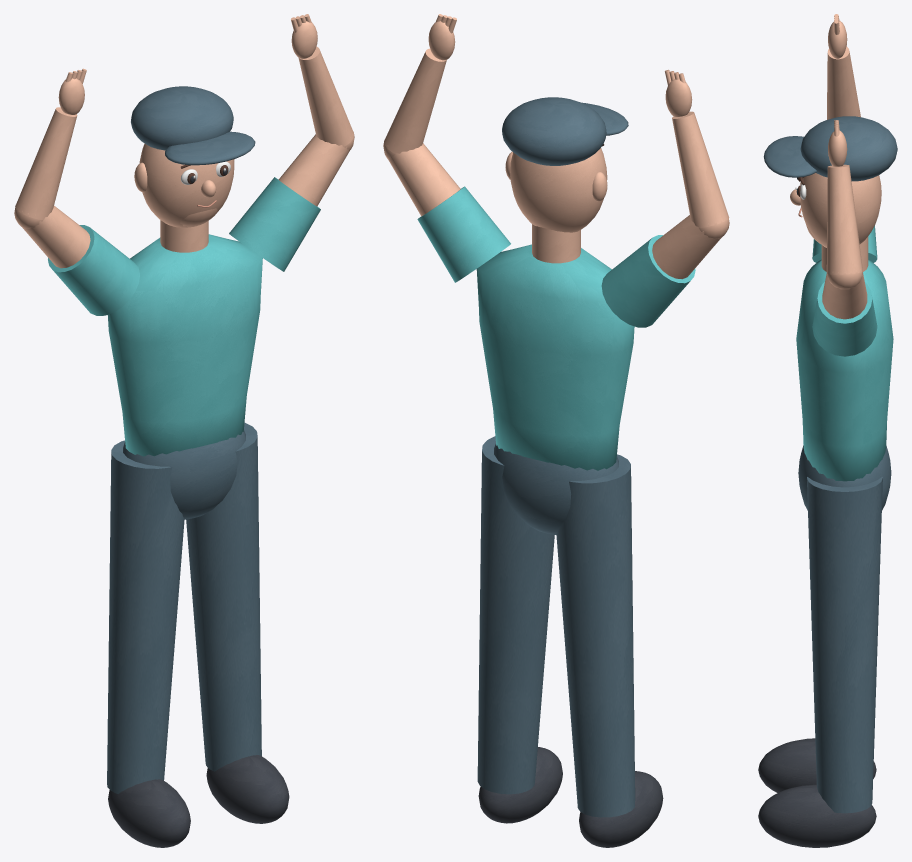
File: spectator_1.glb
3 renders of one model, left to right at view 1: azimuth 30°, elevation 25°; view 2: azimuth 150°, elevation 25°; view 3: azimuth 270°, elevation 25°, orthographic. The views are drawn at different scales.
Visible parts, largest first — view 1: spectator_1; view 2: spectator_1; view 3: spectator_1.
Boxes of the visible parts, x1=… form: spectator_1: x1=14, y1=14, x2=354, y2=847; spectator_1: x1=383, y1=14, x2=729, y2=847; spectator_1: x1=758, y1=14, x2=897, y2=847.
Size of the model in its own units: 0.886 by 1.96 by 0.33.
Materials: 1 (1 with a texture image).
